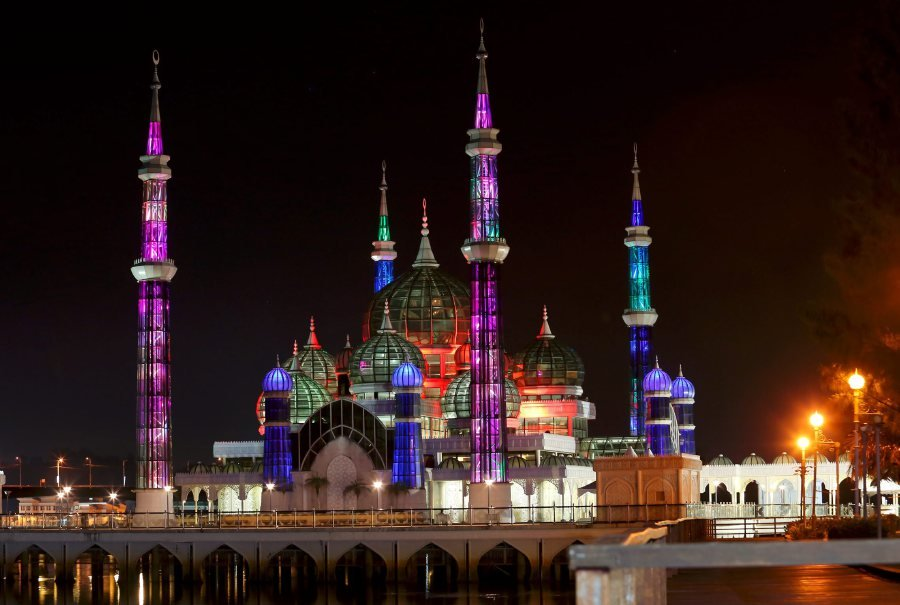Mosque: (116, 27, 673, 454)
